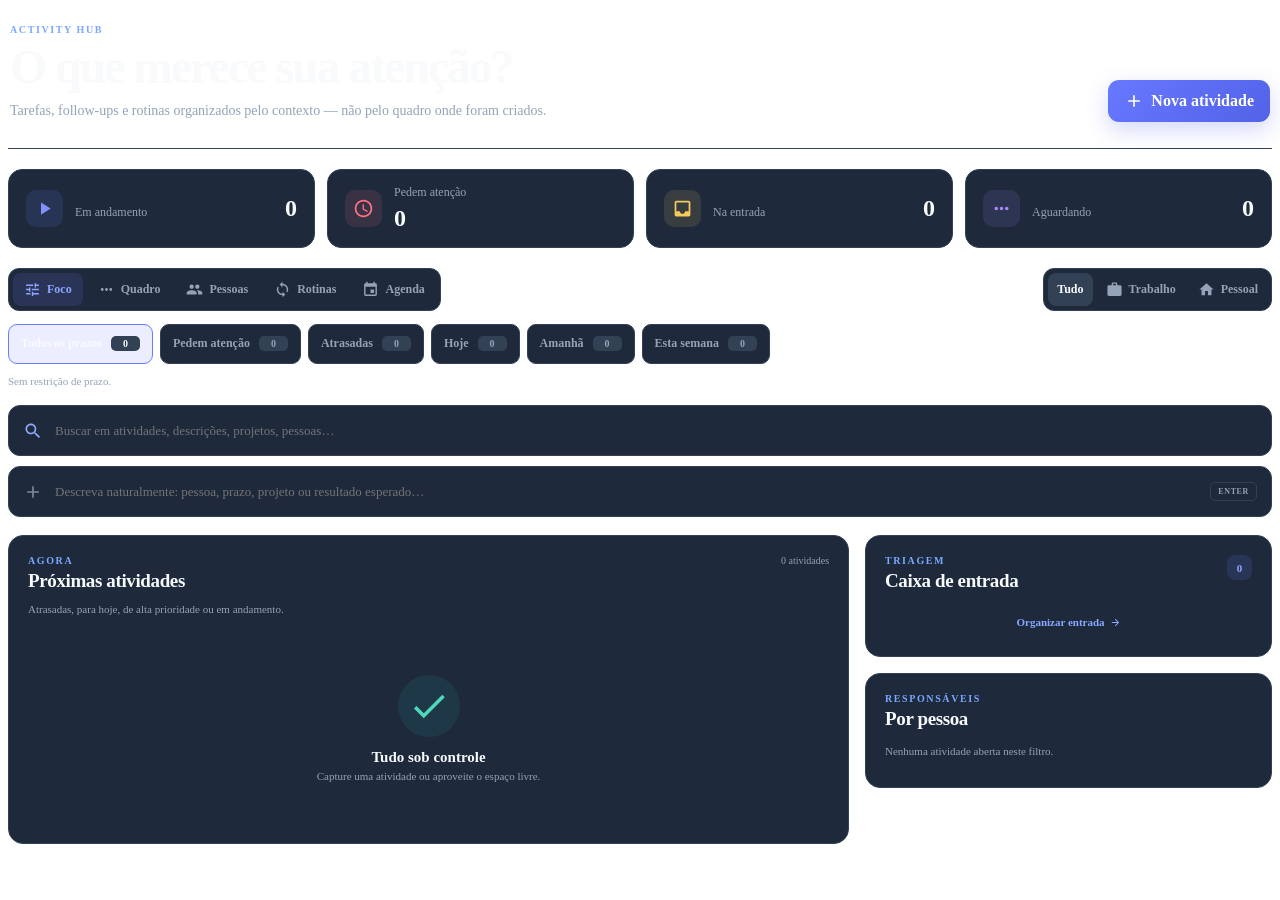
Activities contextual capture › preserves the original capture as a manual draft when AI is unavailable
The image size is (1280, 900).
Step 1. Replace the text in the field with placeholder "Descreva naturalmente" with "Revisar proposta do fornecedor" → (627, 492), box [53,483,1200,501]
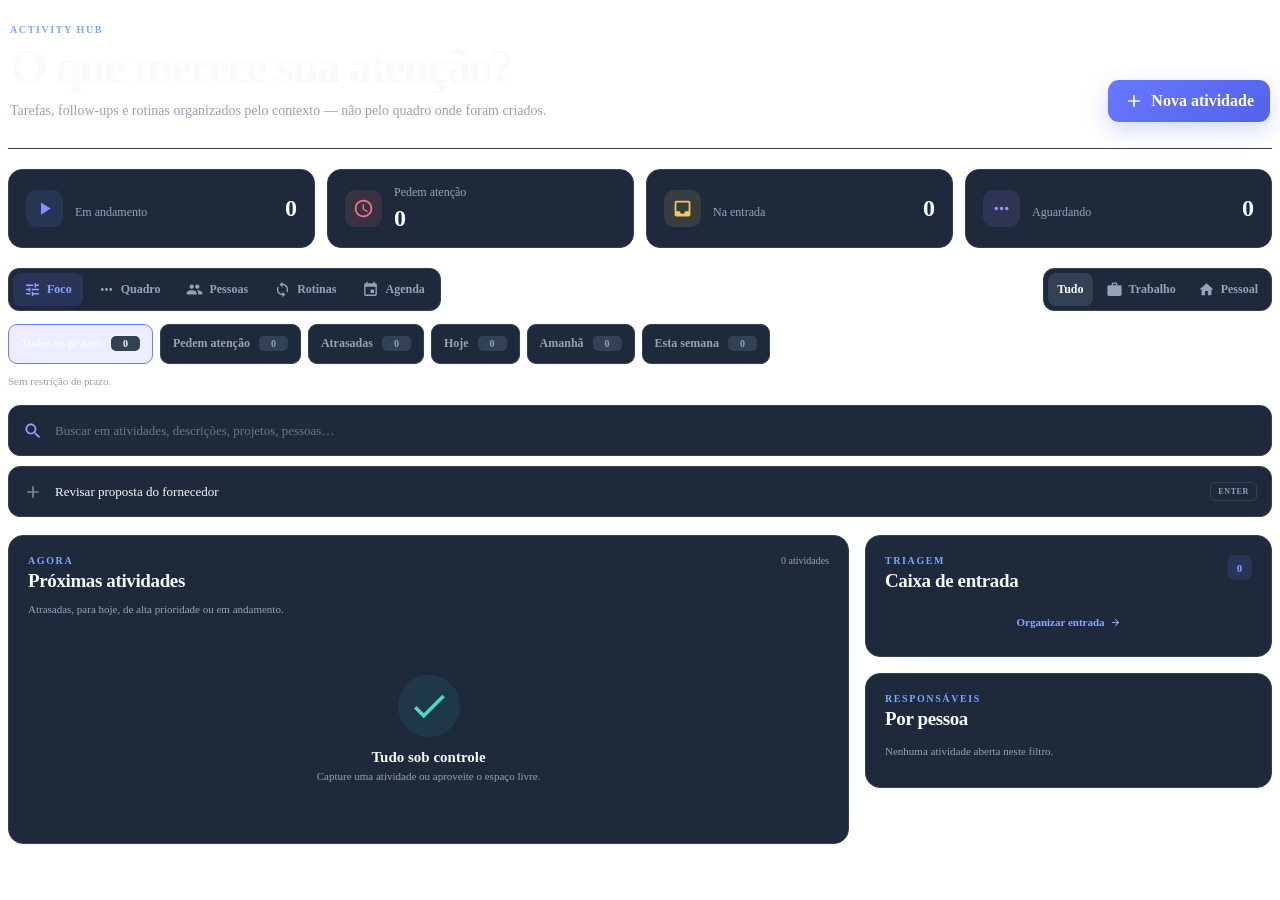
Step 2. Submit the form with placeholder "Descreva naturalmente", box [8,466,1272,517]
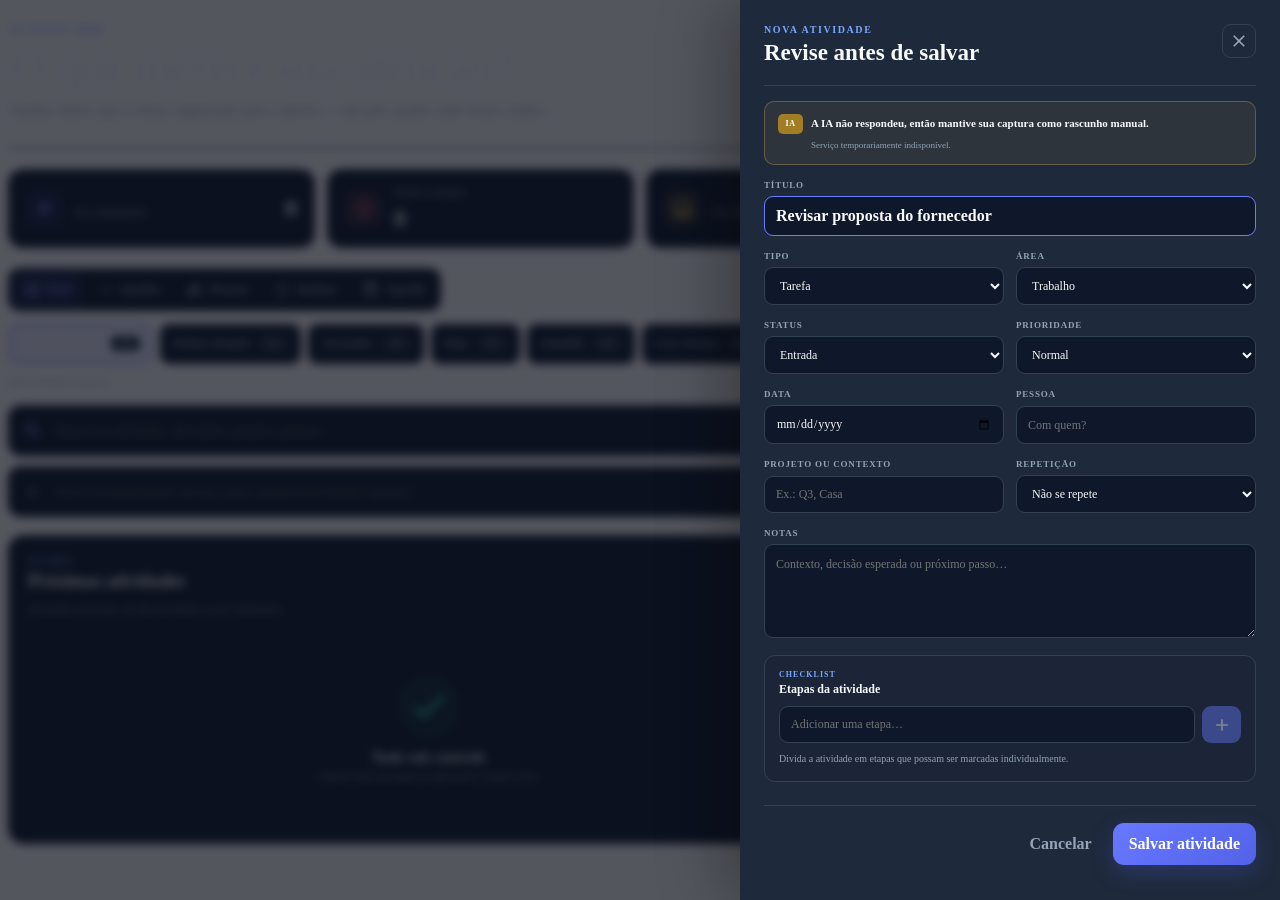
Check: the field with placeholder "O que precisa acontecer?" holds "Revisar proposta do fornecedor", box [764,196,1256,236]
